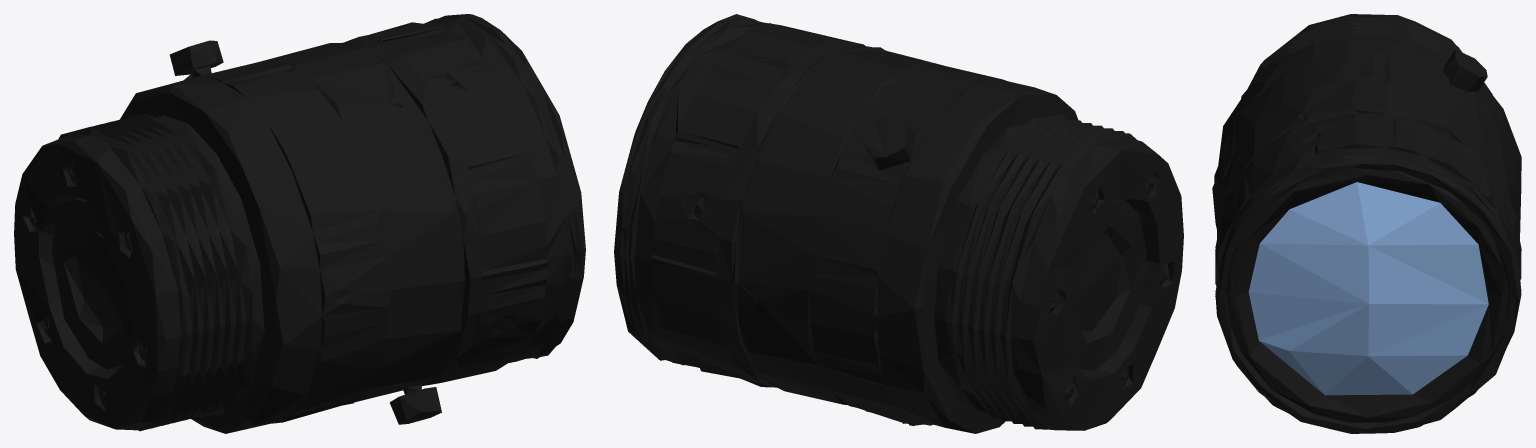
The model's file is evetar_lens.dae.
The picture shows the model from 3 angles, left to right: view 1: azimuth 30°, elevation 25°; view 2: azimuth 150°, elevation 25°; view 3: azimuth 270°, elevation 25°; orthographic projection. The views are drawn at different scales.
Parts seen in each view (by area): view 1: node0; view 2: node0; view 3: node0, node0.001.
Part boxes in pixels (bbox=[...]): node0: bbox=[14, 14, 585, 433]; node0: bbox=[614, 14, 1183, 433]; node0: bbox=[1212, 14, 1521, 433]; node0.001: bbox=[1248, 182, 1488, 395].
Size of the model in its own units: 0.0398 by 0.0293 by 0.0298.
